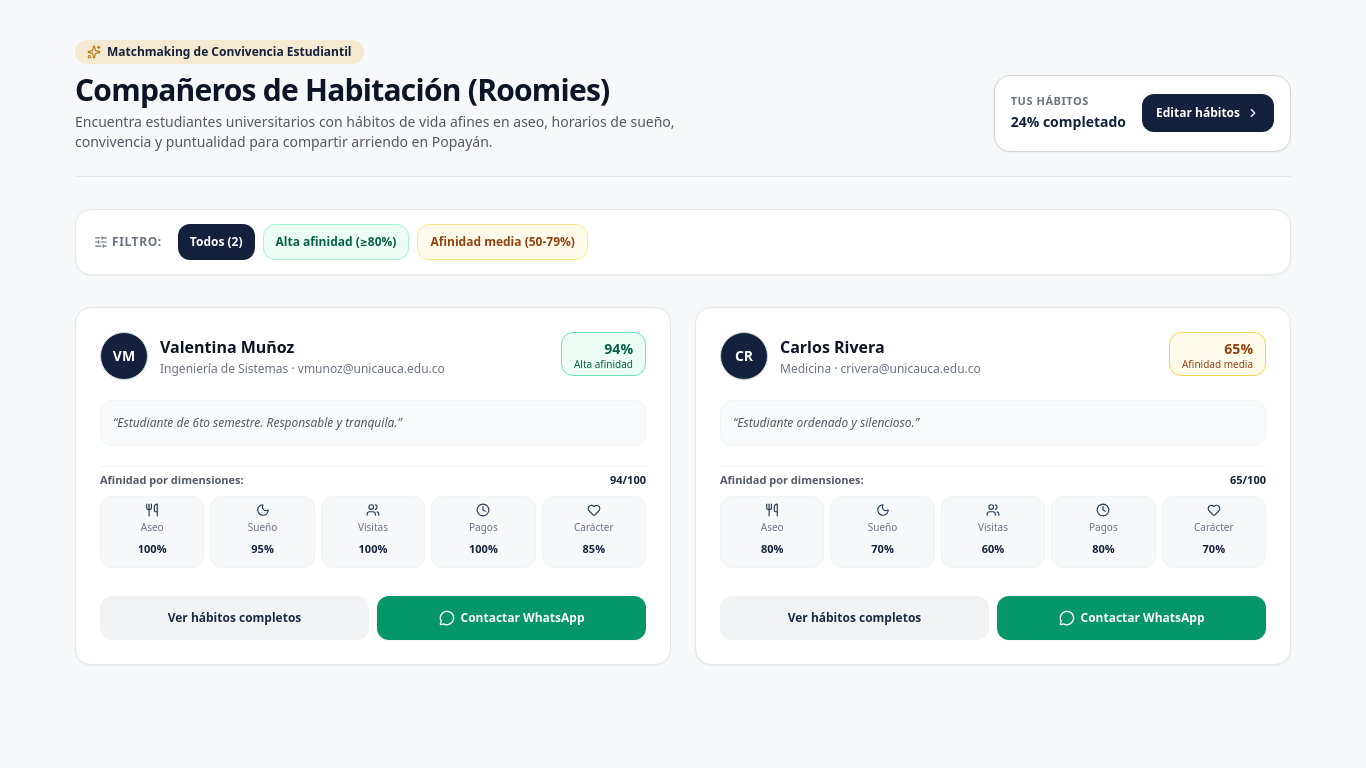
Test: Roomies page › abre el modal de desglose de convivencia al hacer clic en "Ver hábitos completos"
Expected: the heading "Valentina Muñoz" is shown, left=160, top=336, right=294, bottom=358
Click the button "Ver hábitos completos" below "95": x=234, y=618 left=100, top=596, right=369, bottom=640
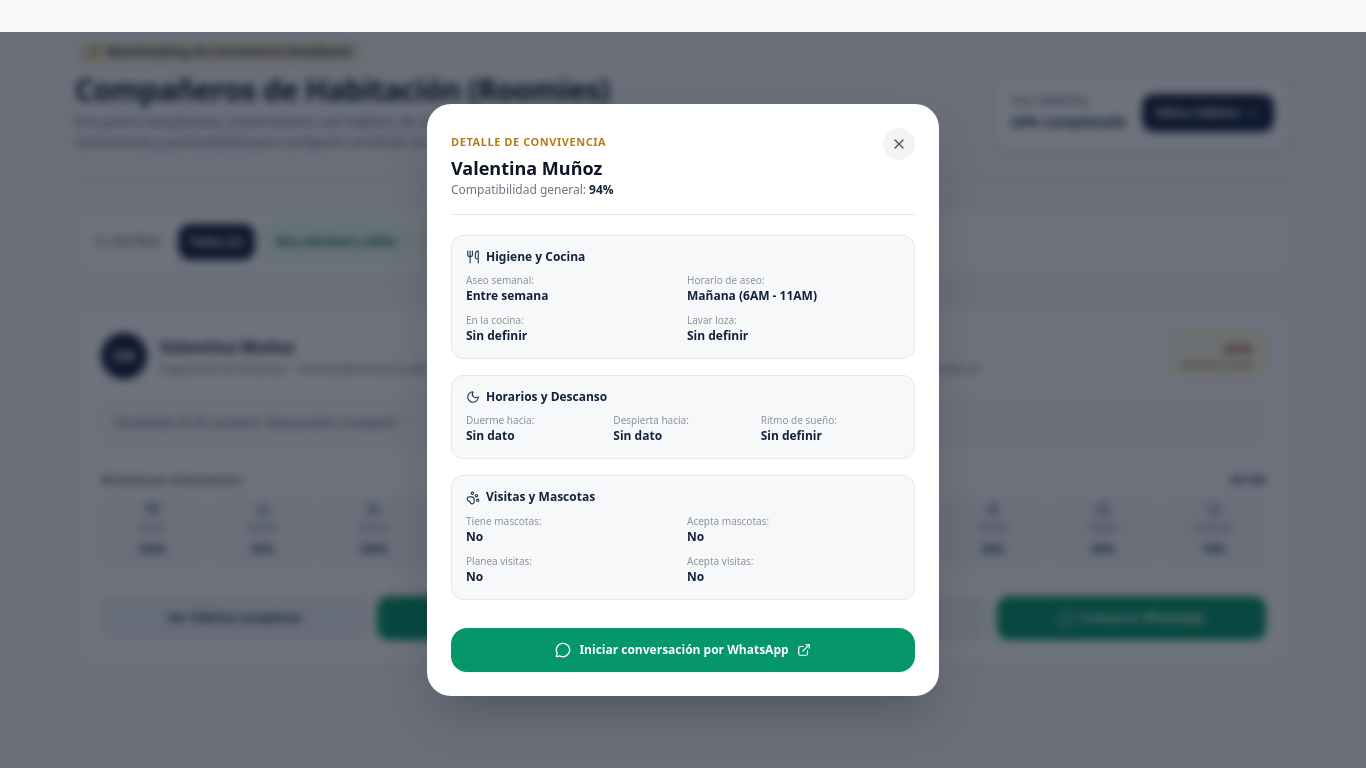
Expected: the dialog is shown
Expected: the text "Detalle de Convivencia" is shown, left=451, top=134, right=606, bottom=149
Expected: the heading "Higiene y Cocina" is shown, left=466, top=248, right=585, bottom=265
Note: Cerrar modal
Click the button named "Cerrar modal": x=899, y=144 left=883, top=128, right=915, bottom=160
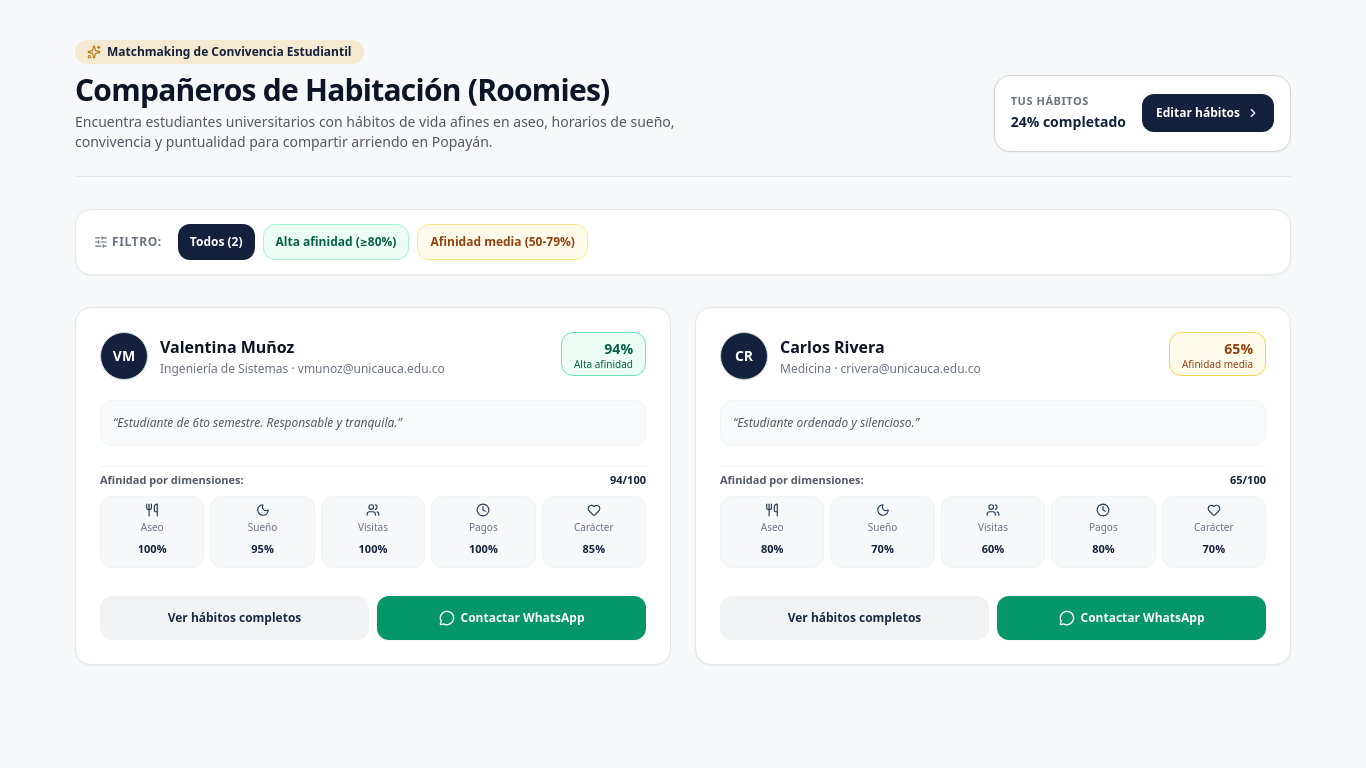
Expected: the dialog is gone
